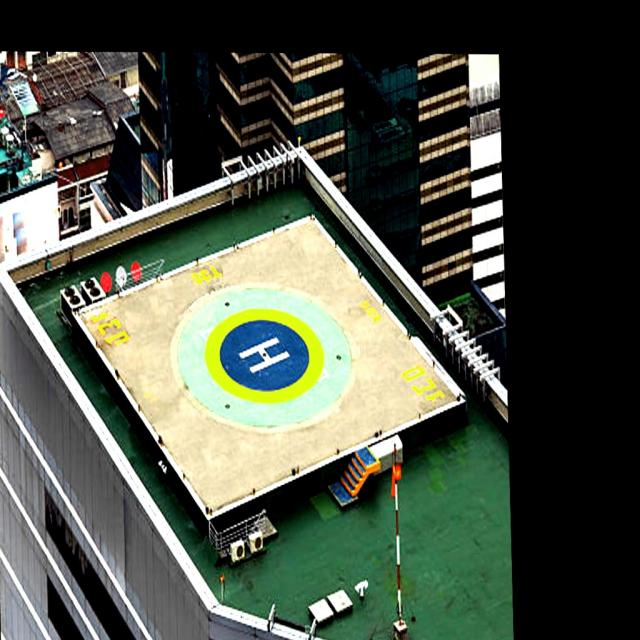helipad: (202, 305, 326, 406)
